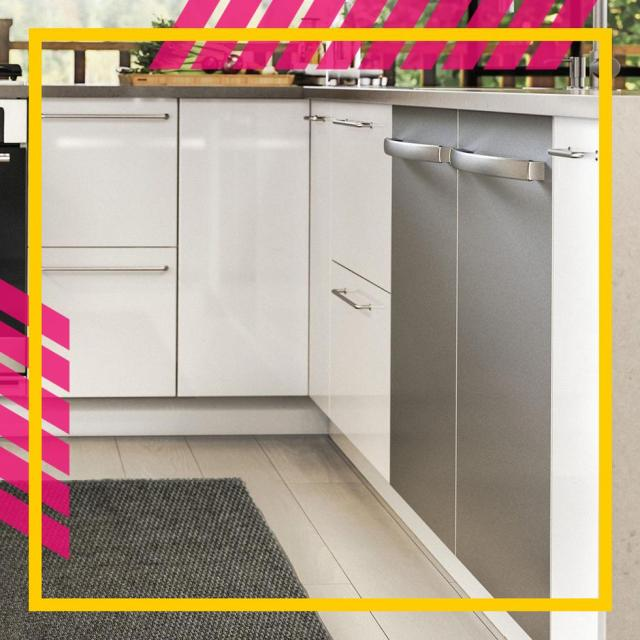dishwasher: (384, 97, 557, 640)
